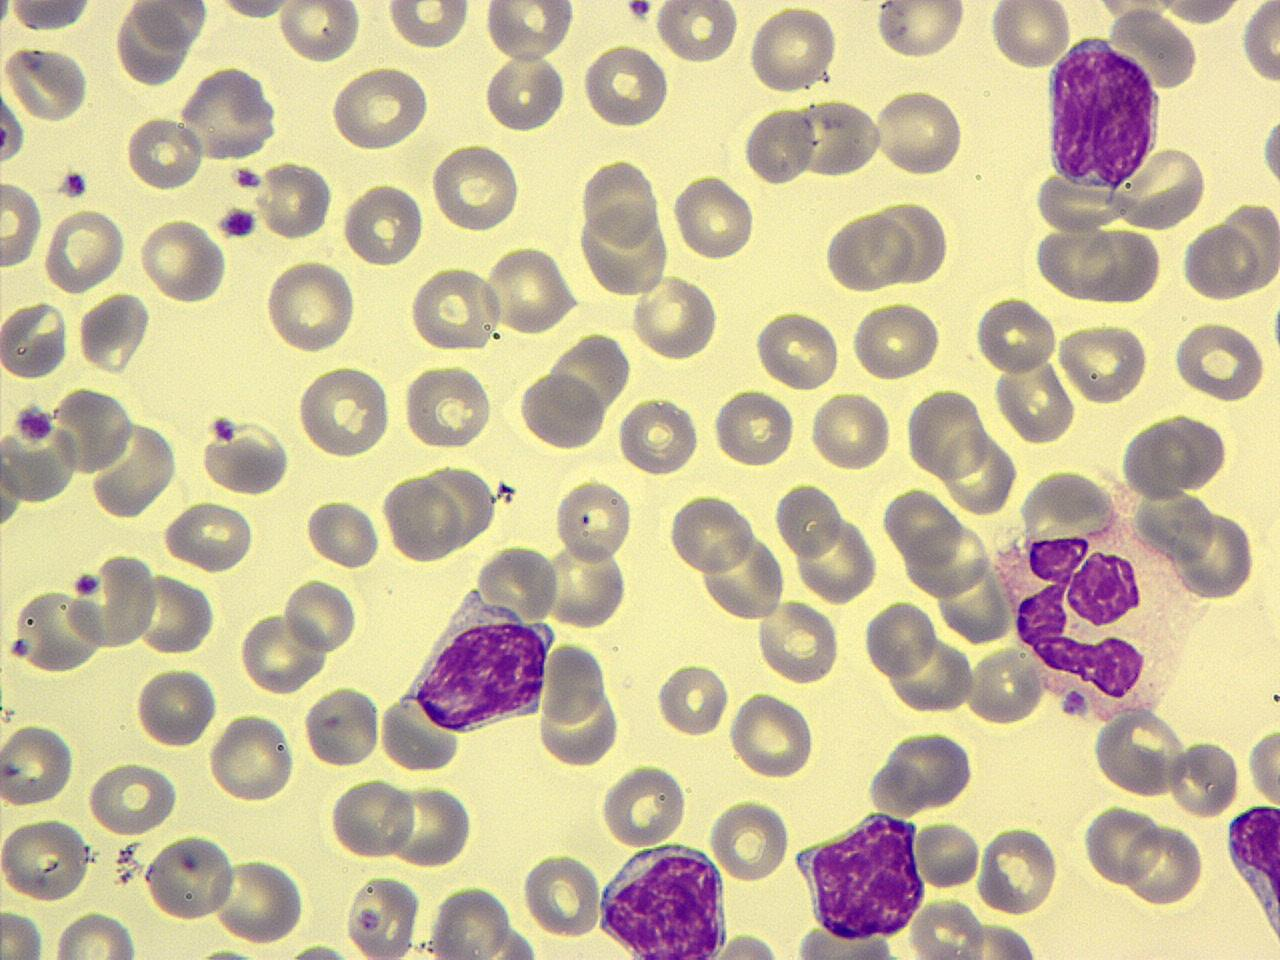Platelets: (218, 205, 260, 242), (625, 1, 655, 21)
RBC: (180, 61, 280, 163), (1118, 411, 1230, 501), (1042, 224, 1162, 306), (295, 362, 394, 460), (88, 416, 178, 521), (328, 64, 434, 152), (72, 547, 160, 652), (1089, 704, 1187, 799), (263, 256, 357, 356), (1221, 798, 1280, 950), (213, 853, 308, 947), (431, 139, 525, 235), (482, 244, 580, 336), (144, 830, 238, 924), (746, 4, 839, 98), (872, 88, 967, 179), (401, 360, 497, 451), (630, 270, 722, 364), (207, 710, 298, 804), (1171, 504, 1257, 604), (727, 688, 817, 782), (1055, 318, 1151, 406), (1171, 316, 1267, 403), (598, 759, 688, 851), (410, 263, 502, 354), (581, 39, 670, 132), (10, 587, 105, 675), (541, 538, 631, 630), (1114, 145, 1208, 232), (850, 298, 944, 385), (137, 216, 228, 306), (0, 815, 91, 903), (794, 512, 879, 606), (50, 383, 135, 477), (976, 823, 1060, 917), (328, 774, 416, 863), (754, 596, 842, 686), (752, 306, 842, 393), (992, 356, 1078, 447), (708, 794, 792, 886), (904, 386, 989, 479), (580, 156, 660, 253), (823, 208, 913, 293), (43, 204, 127, 295), (671, 170, 755, 262), (199, 416, 292, 498), (341, 179, 426, 268), (133, 664, 219, 752), (389, 781, 474, 870), (885, 728, 976, 812), (668, 490, 756, 576), (85, 760, 179, 838), (792, 96, 882, 177), (2, 43, 92, 125), (383, 470, 461, 564), (237, 611, 324, 695), (1122, 820, 1204, 908), (1082, 798, 1162, 888), (420, 460, 498, 553), (972, 294, 1059, 376), (522, 850, 602, 940), (554, 476, 634, 566), (0, 718, 78, 810), (474, 541, 560, 622), (616, 394, 700, 477), (808, 390, 893, 473), (482, 52, 566, 134), (518, 369, 604, 450), (344, 871, 424, 957), (303, 683, 383, 769), (162, 499, 254, 574), (254, 157, 335, 242), (870, 200, 948, 286), (712, 387, 796, 467), (113, 2, 191, 88), (139, 572, 217, 658), (742, 102, 819, 188), (124, 114, 205, 194), (1182, 219, 1260, 302), (77, 288, 151, 374), (966, 645, 1044, 726), (280, 574, 359, 654), (428, 883, 511, 960), (863, 597, 939, 680), (1166, 736, 1242, 819), (481, 1, 577, 65), (986, 0, 1071, 71), (655, 659, 731, 739), (304, 495, 382, 572), (870, 1, 968, 62), (654, 0, 740, 68), (1, 296, 69, 382), (276, 0, 363, 65), (908, 892, 986, 960), (776, 480, 842, 560), (912, 818, 980, 891), (384, 0, 472, 53), (49, 908, 140, 958), (0, 177, 46, 272), (940, 920, 1047, 959), (133, 0, 210, 53), (1240, 0, 1280, 87), (2, 0, 100, 34), (1245, 724, 1279, 807), (203, 0, 306, 24), (706, 929, 785, 960), (0, 906, 46, 958)
WBC: (987, 522, 1187, 724), (408, 588, 564, 738), (1041, 33, 1165, 195), (799, 807, 932, 941), (593, 840, 731, 960), (1223, 794, 1280, 958)
